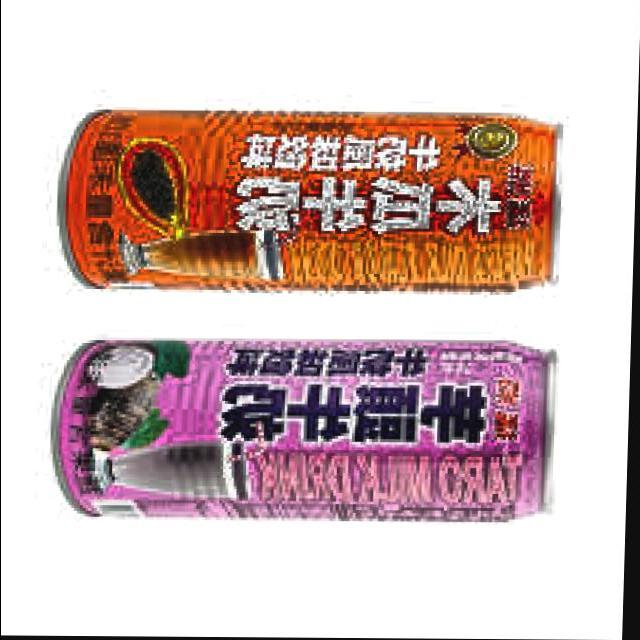Aluminum Can: (35, 328, 580, 544), (46, 100, 570, 301)
